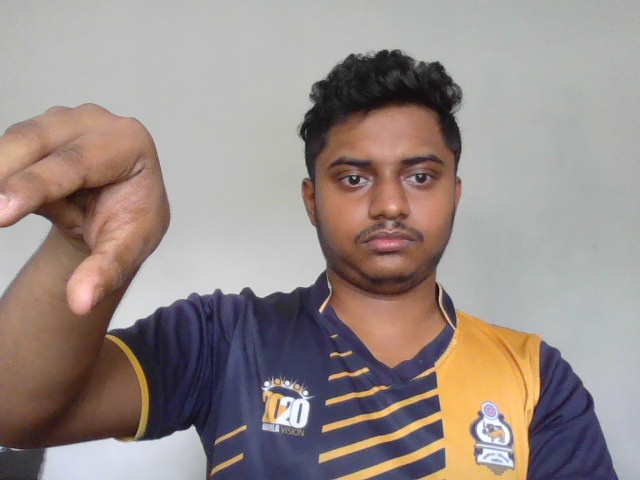No: (1, 100, 174, 316)
